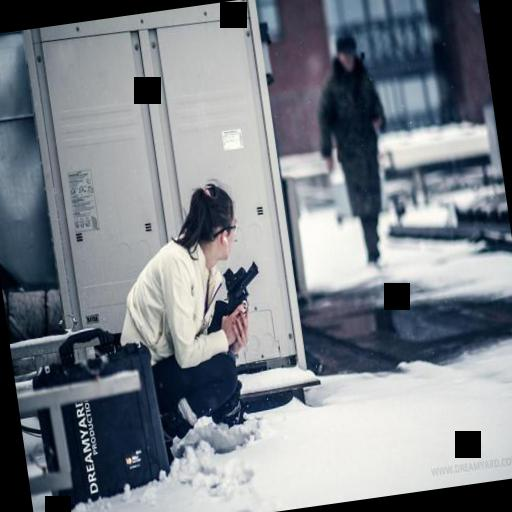Handgun: (218, 256, 264, 321)
